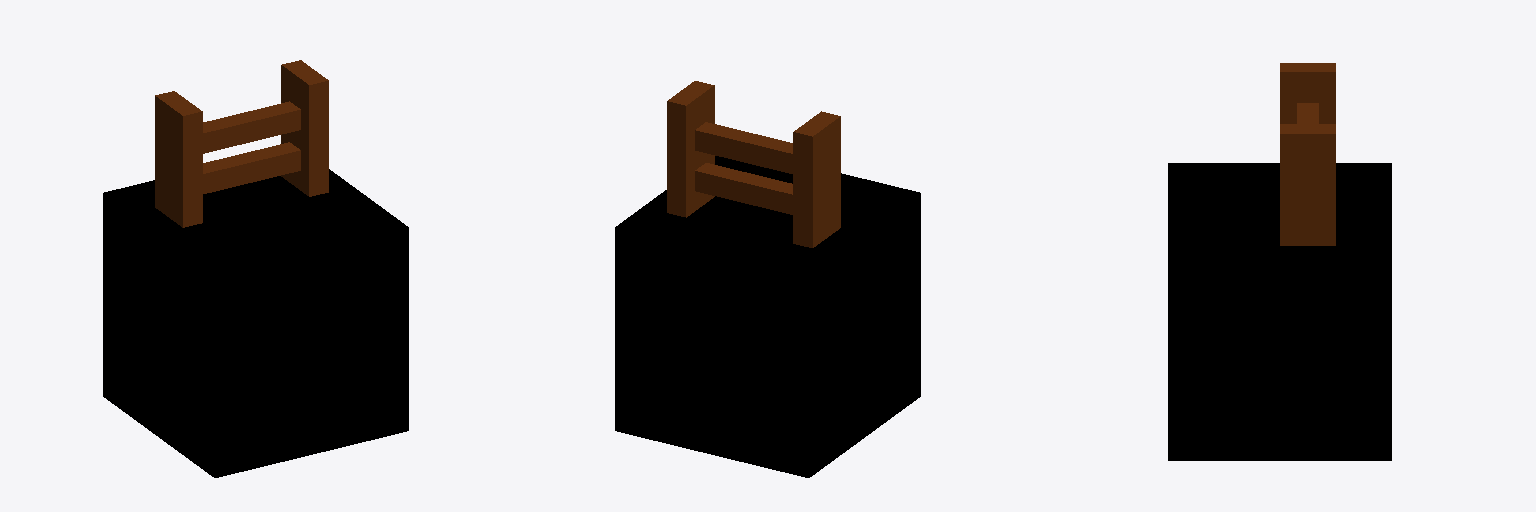
File: ladder1.obj
The picture shows the model from 3 angles: view 1: azimuth 30°, elevation 25°; view 2: azimuth 150°, elevation 25°; view 3: azimuth 270°, elevation 25°; orthographic projection.
Visible parts, largest first — view 1: Object.1; view 2: Object.1; view 3: Object.1.
Part boxes in pixels (left/top/right/bottom): Object.1: left=103, top=60, right=408, bottom=477; Object.1: left=615, top=81, right=920, bottom=477; Object.1: left=1168, top=63, right=1391, bottom=460.
Bounding box in the file's own units: 1 × 1.55 × 1.